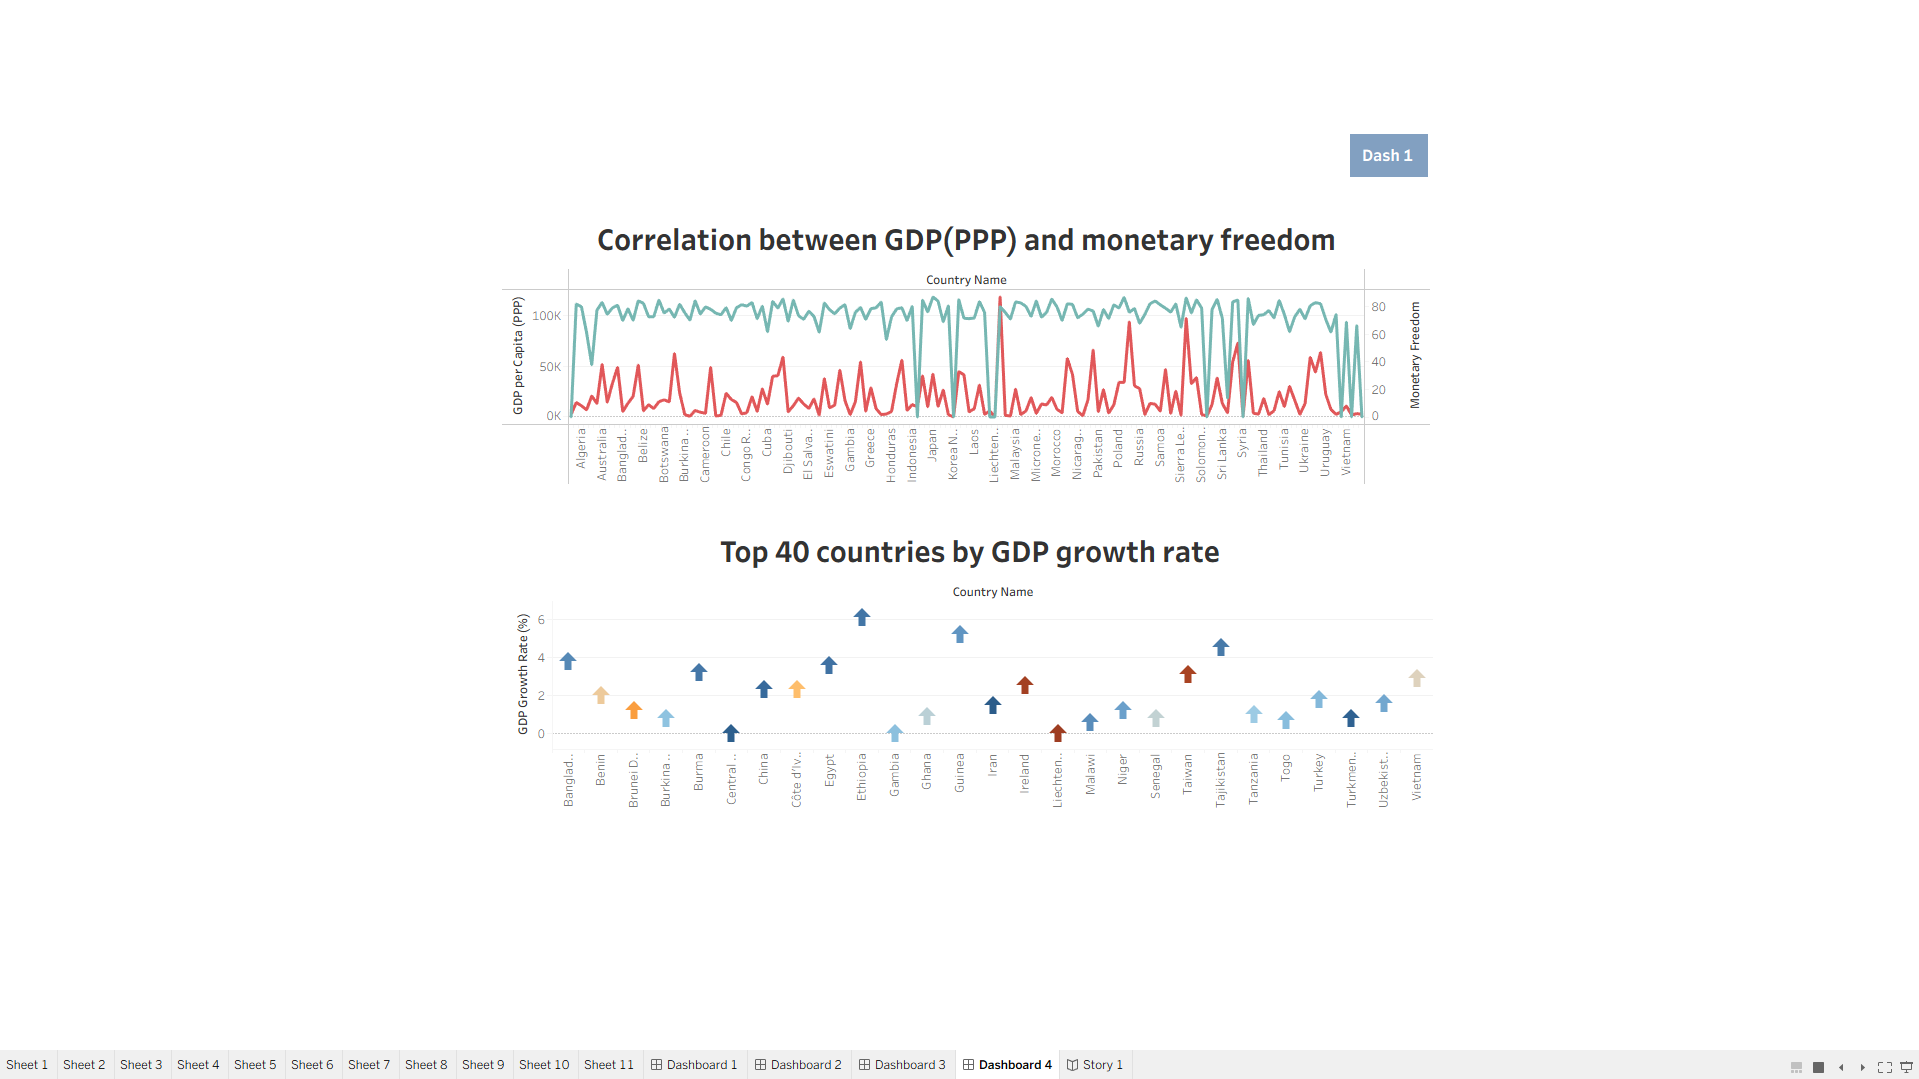

The page's visual inventory and layout, read from the dashboard file:
{"tool":"tableau","page":{"name":"Dashboard 4","canvas":[1000,800],"ordinal":3},"visuals":[{"type":"dashboard-object","box":[890,9,78,43]},{"type":"worksheet","title":"Sheet 10","mark":"Line","rows":["GDP per Capita (PPP)","Monetary Freedom"],"cols":["Country Name"],"box":[42,89,929,271]},{"type":"worksheet","title":"Sheet 11","mark":"Shape","rows":["GDP Growth Rate (%)"],"cols":["Country Name"],"box":[47,401,926,283]}]}

Visuals, with their boxes on the page's 1000x800 design canvas (x1, y1, x2, y2). These are canvas units, not pixel positions in the 1919x1079 screenshot, which may show the page scaled, cropped or inside an application window:
dashboard-object: box=[890, 9, 968, 52]
"Sheet 10" worksheet (Line marks): box=[42, 89, 971, 360]
"Sheet 11" worksheet (Shape marks): box=[47, 401, 973, 684]
